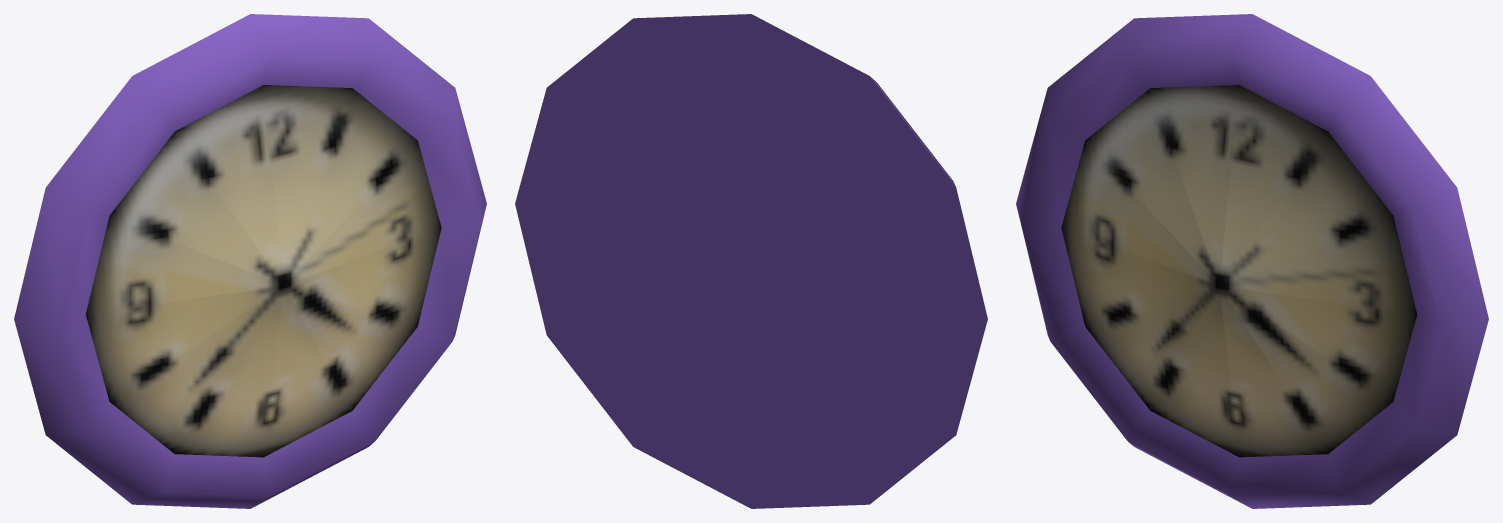
File: Wall_Clock_D.FBX
3 renders of one model, left to right at view 1: azimuth 30°, elevation 25°; view 2: azimuth 150°, elevation 25°; view 3: azimuth 330°, elevation 25°, orthographic.
Visible parts, largest first — view 1: Wall_Clock; view 2: Wall_Clock; view 3: Wall_Clock.
Boxes of the visible parts, box(x1,y1,x2,y2) form: Wall_Clock: box(14, 14, 486, 508); Wall_Clock: box(515, 14, 987, 508); Wall_Clock: box(1016, 14, 1488, 508).
Size of the model in its own units: 118 by 118 by 14.32.
